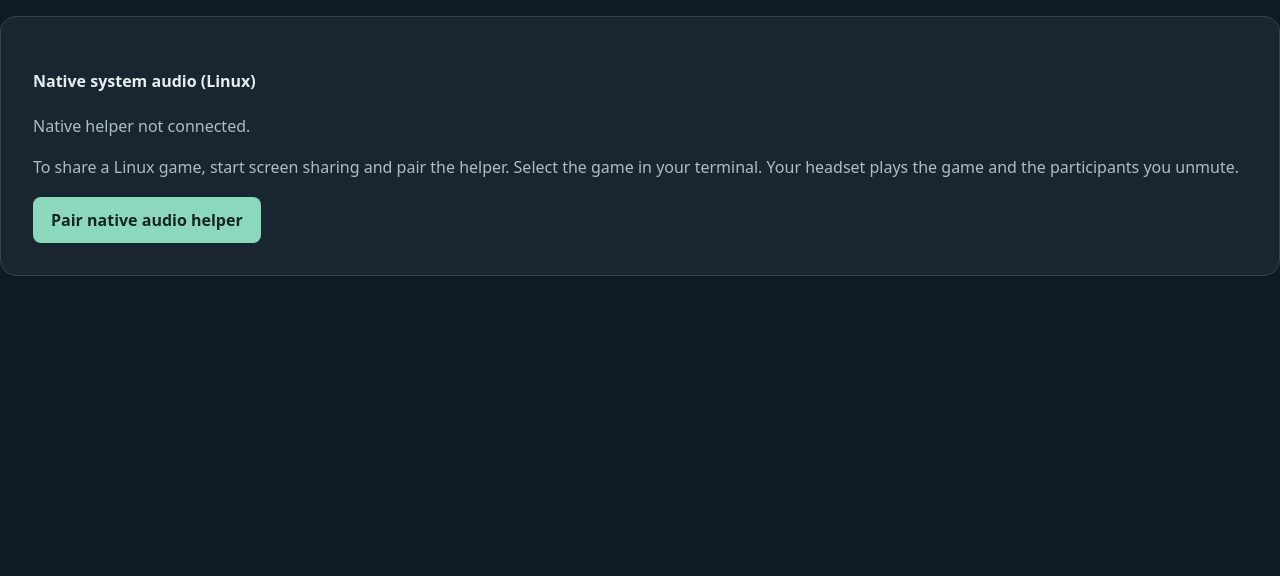
Test: native pairing requires an active screen and explicit click
The image size is (1280, 576).
Later steps or results of the test are not shown.
Click the button "Pair native audio helper" at (147, 220), box x1=33 y1=197 x2=261 y2=243
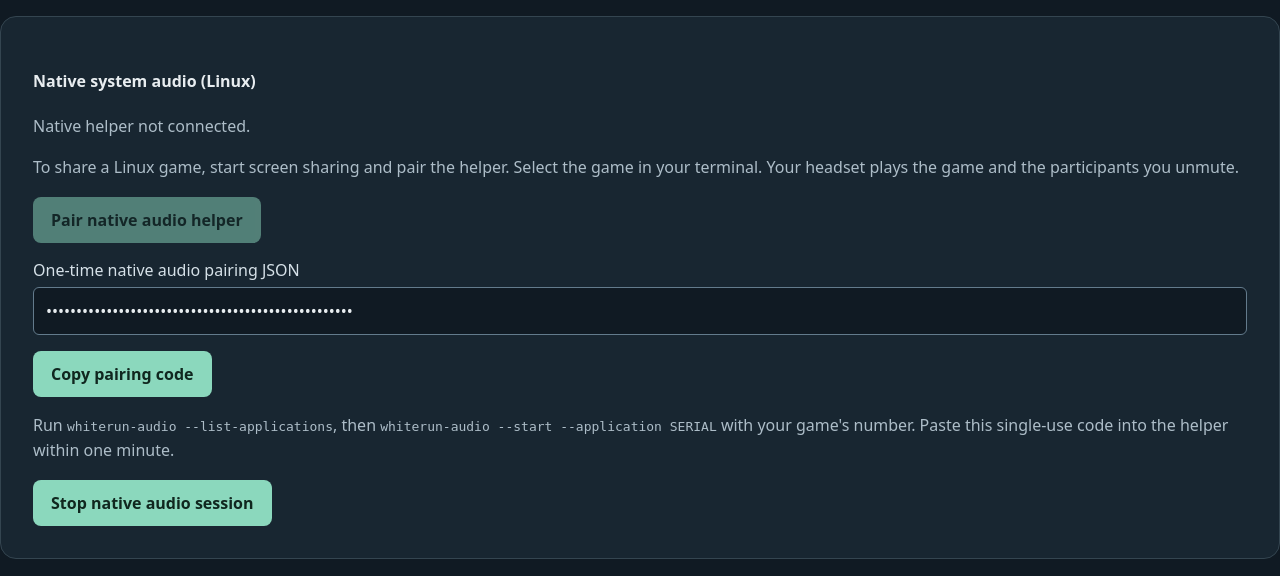
Expected: the password field labelled "One-time native audio pairing JSON" is shown, x1=33 y1=287 x2=1247 y2=335
